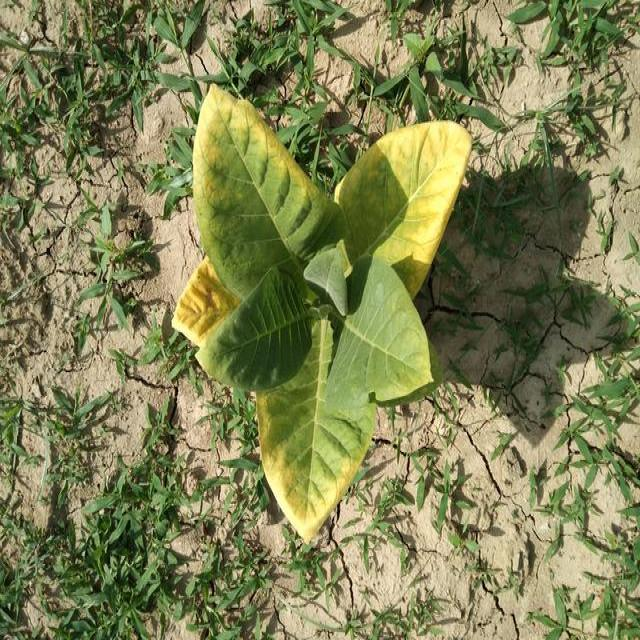crop: (175, 70, 475, 538)
